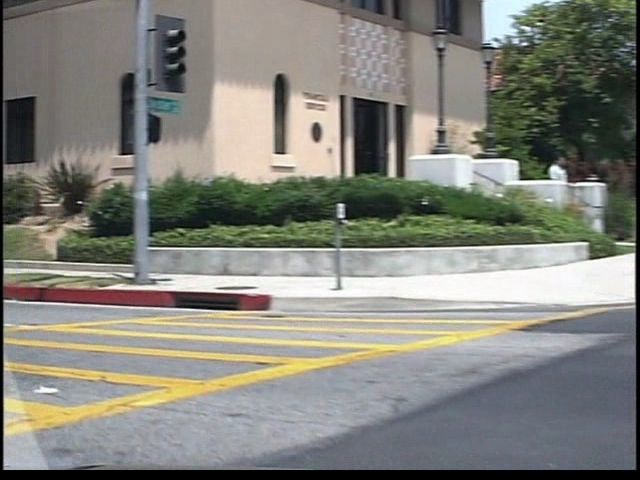person: (528, 146, 553, 225)
